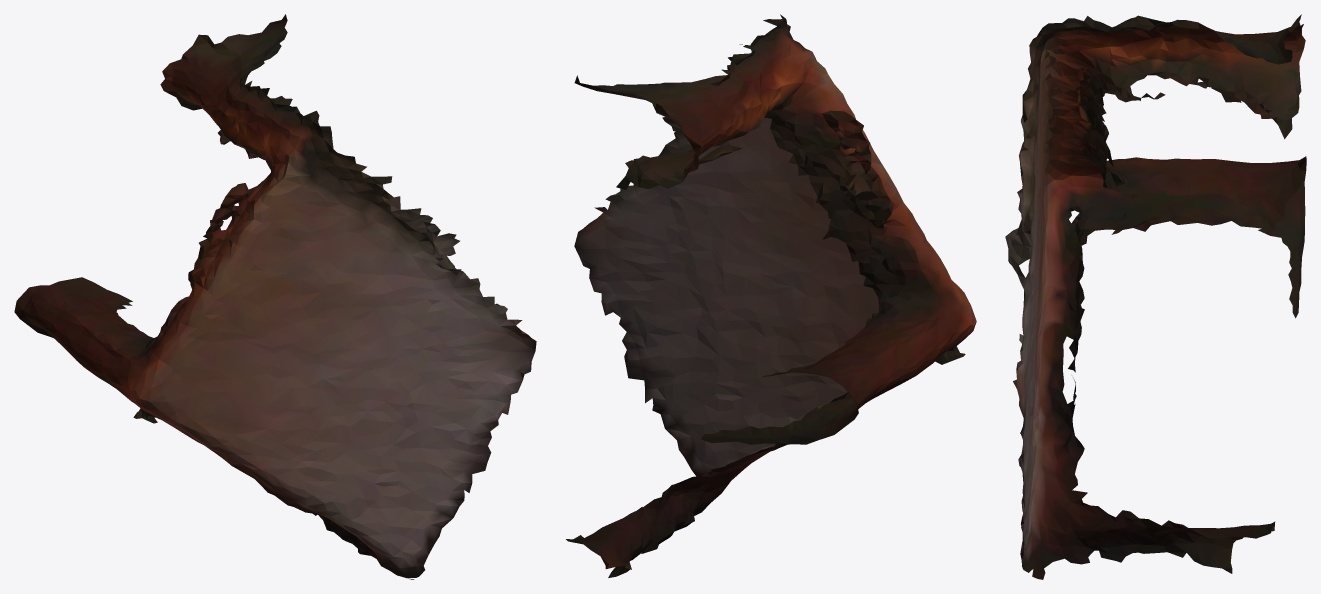
Rendered from 7-coffee table.obj.
3 views of the same model, side by side, from view 1: azimuth 30°, elevation 25°; view 2: azimuth 150°, elevation 25°; view 3: azimuth 270°, elevation 25° (orthographic). The views are drawn at different scales.
Bounding box in the file's own units: 0.7165 × 0.8482 × 0.4435.
